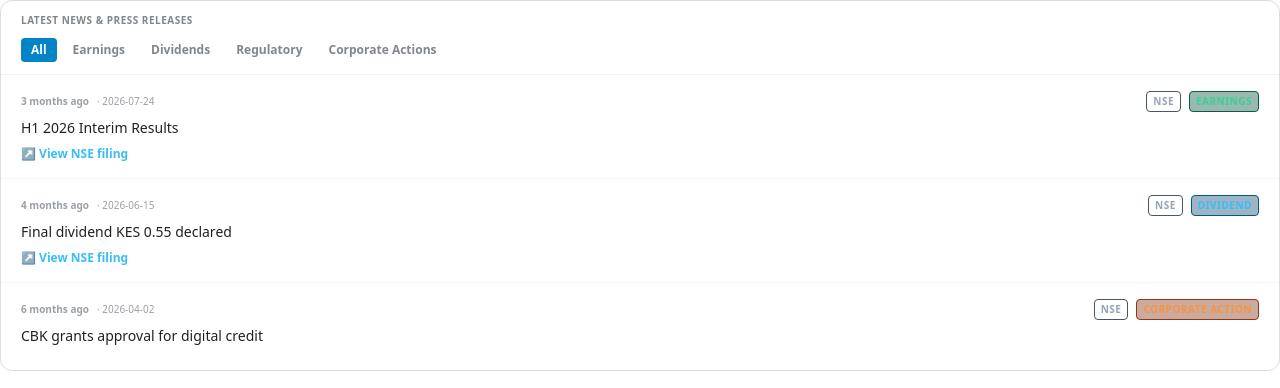
Test: NewsPanel › filters by category tab
The width and height of the screenshot is (1280, 388).
What coordinates should you click on to do the following:
click the button "Dividends"
I would click on:
 (181, 50)
Its box is [141, 38, 220, 62].
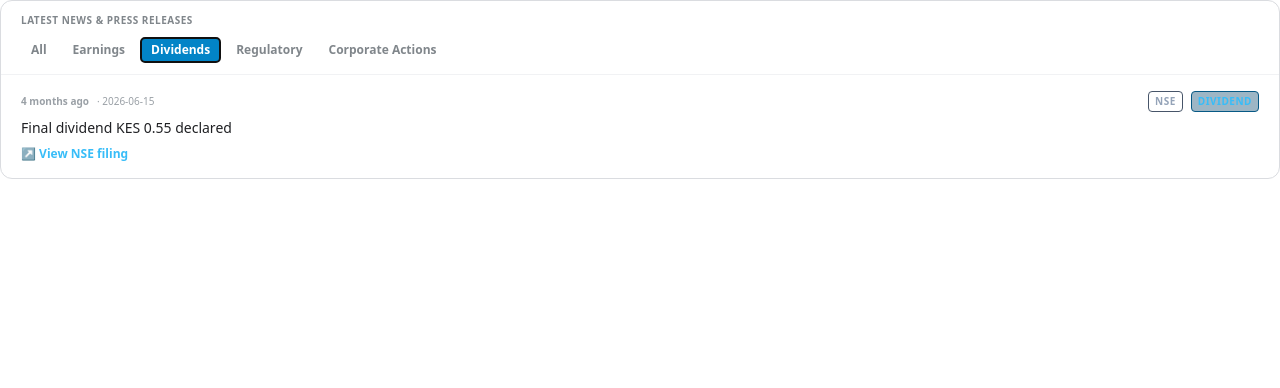
Expected: the text "Final dividend KES 0.55 declared" is shown, [21, 118, 232, 137]
Result: the text "H1 2026 Interim Results" is gone
